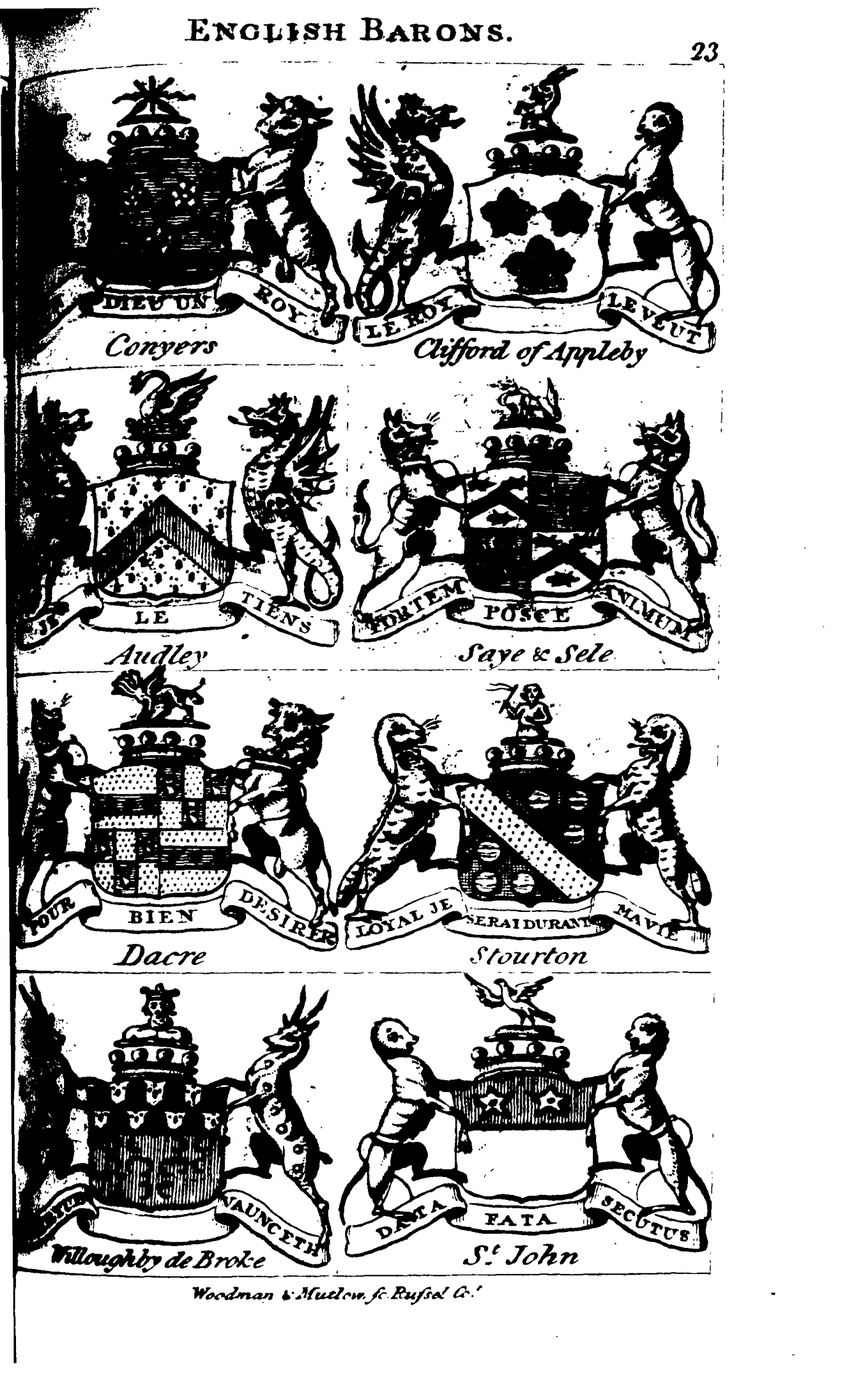coat_of_arms: (348, 63, 725, 368), (344, 365, 714, 670), (344, 670, 716, 967), (346, 971, 708, 1274), (14, 974, 341, 1279), (17, 68, 345, 366), (16, 370, 342, 668), (16, 673, 336, 974)
